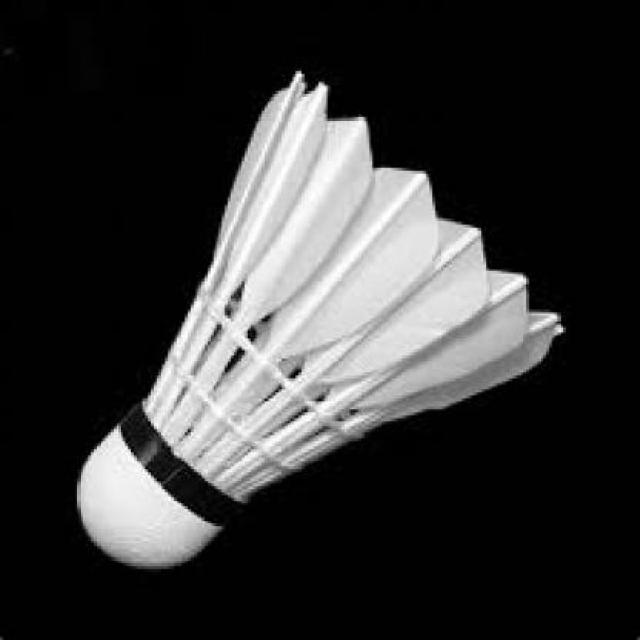Shuttlecock: (75, 66, 568, 574)
